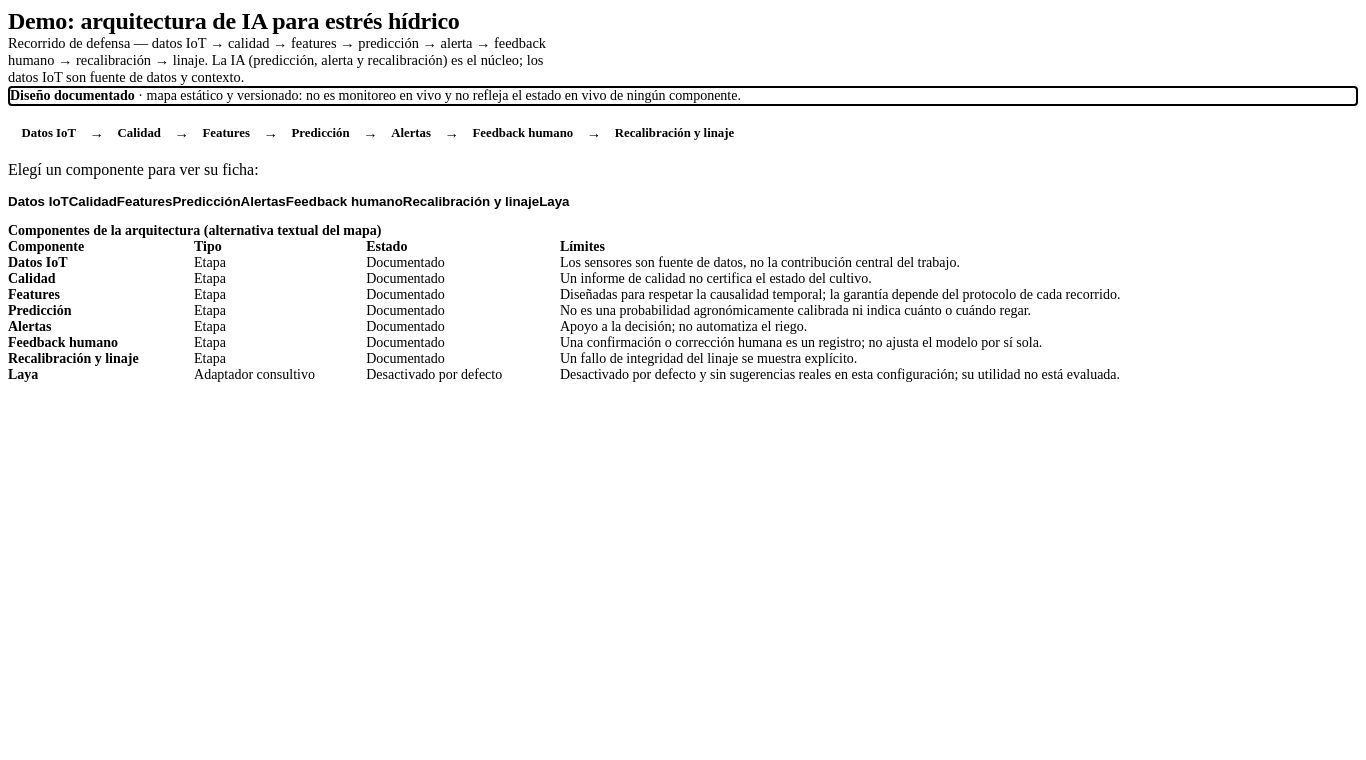
Test: ArchitectureFlow › describes Laya as disabled advisory adapter without real suggestions
Click the button "Laya". click: (554, 201)
box: [539,179,570,223]
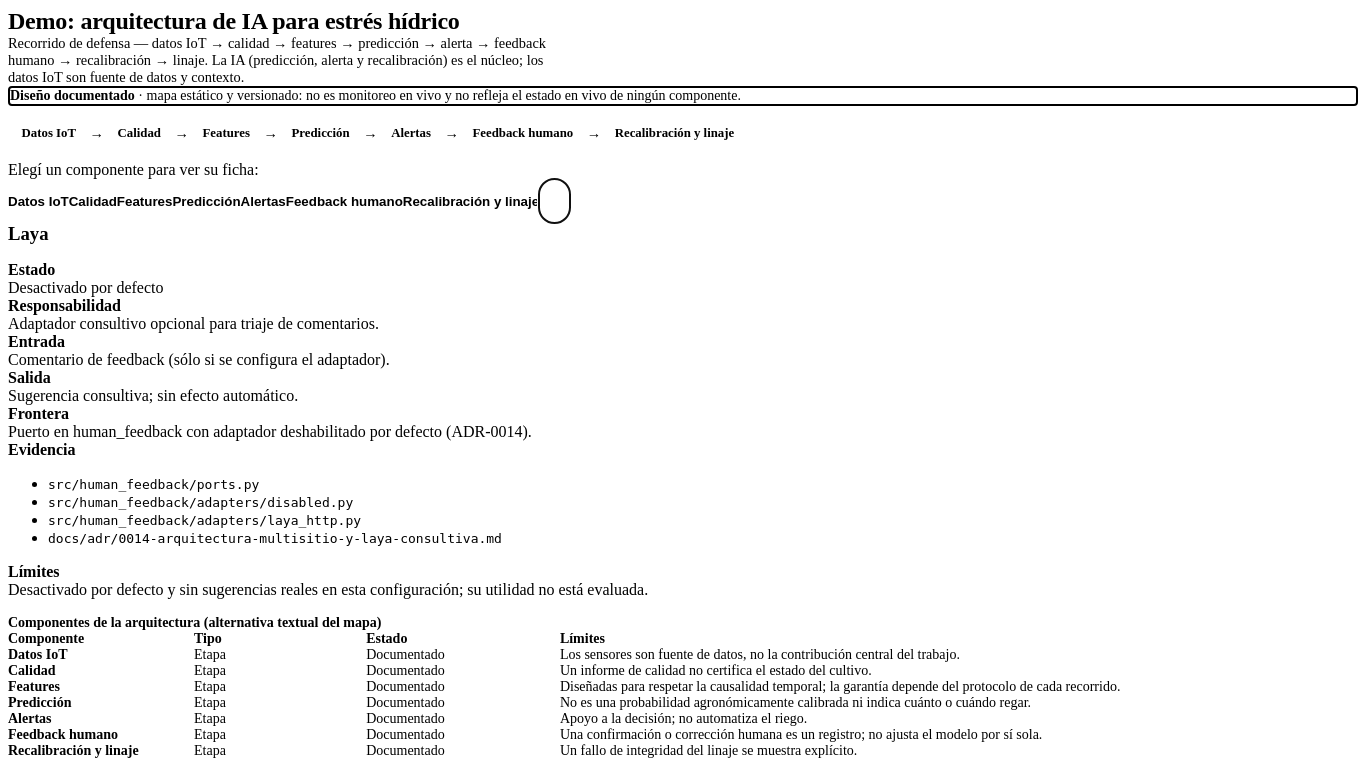
Result: the text "Desactivado por defecto" is shown at [8,279,164,296]
Result: the text "sin sugerencias reales" is shown at [8,581,648,598]
